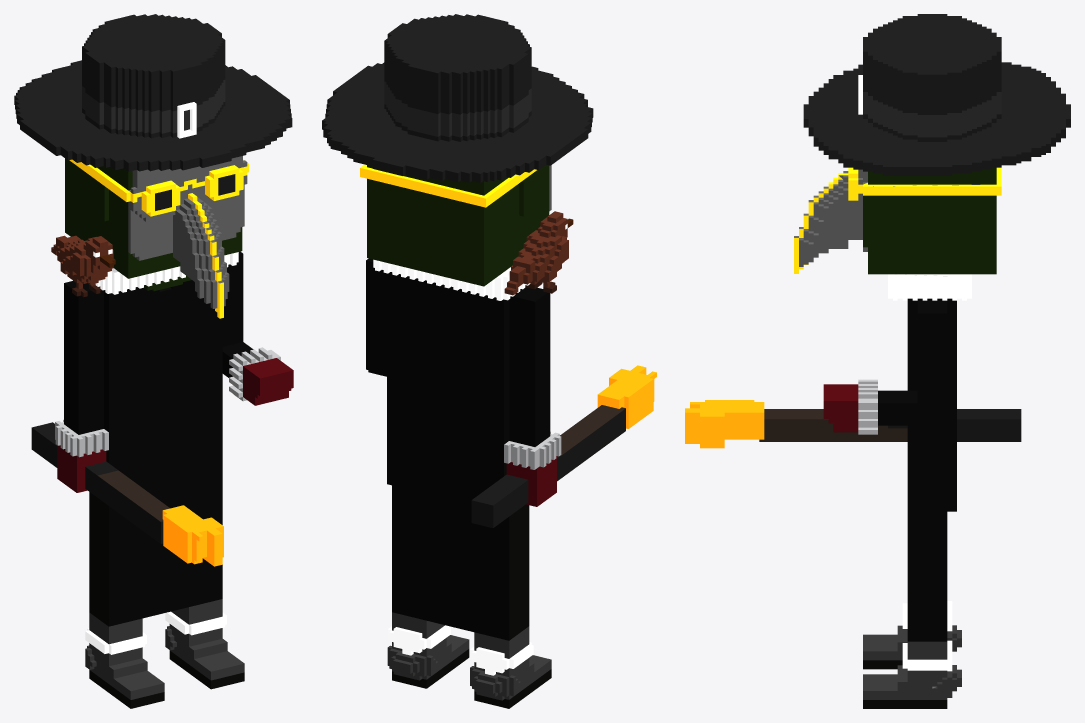
The model's file is plague_doctor.glb.
The picture shows the model from 3 angles, left to right: view 1: azimuth 30°, elevation 25°; view 2: azimuth 150°, elevation 25°; view 3: azimuth 270°, elevation 25°; orthographic projection. The views are drawn at different scales.
Parts seen in each view (by area): view 1: venetian solo.vox-7; view 2: venetian solo.vox-7; view 3: venetian solo.vox-7.
Boxes of the visible parts, <box> form: venetian solo.vox-7: <box>14,14,293,708</box>; venetian solo.vox-7: <box>322,14,656,708</box>; venetian solo.vox-7: <box>685,14,1070,708</box>.
Bounding box in the file's own units: 5.3 × 14.2 × 7.8.
Materials: 17 (6 with a texture image).
